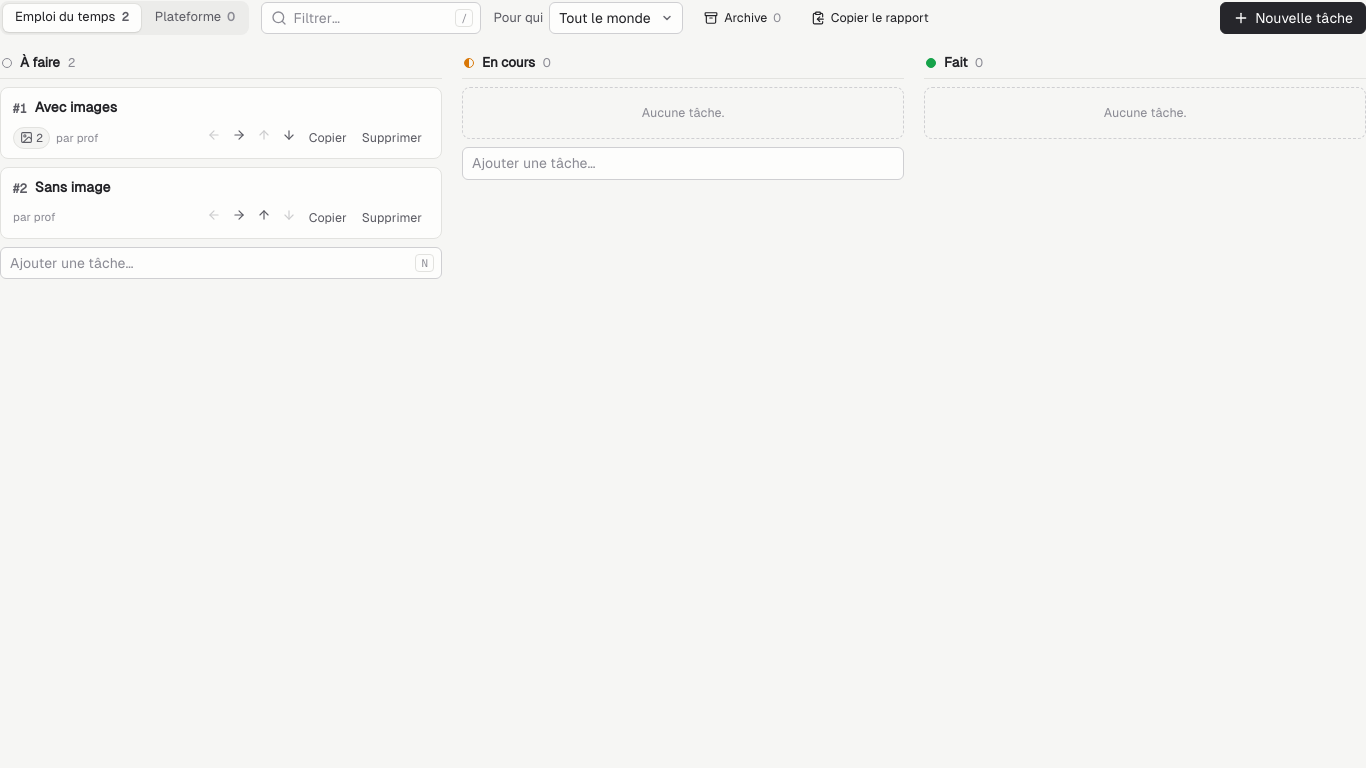
it: KanbanView — images des tâches › shows an image counter on the card that opens the preview
The width and height of the screenshot is (1366, 768).
Expected: the button "Avec images" is shown, [35,98,429,117]
Click the button named "Voir les 2 images de « Avec images »" at coordinates (31, 138), box [13,127,50,149]
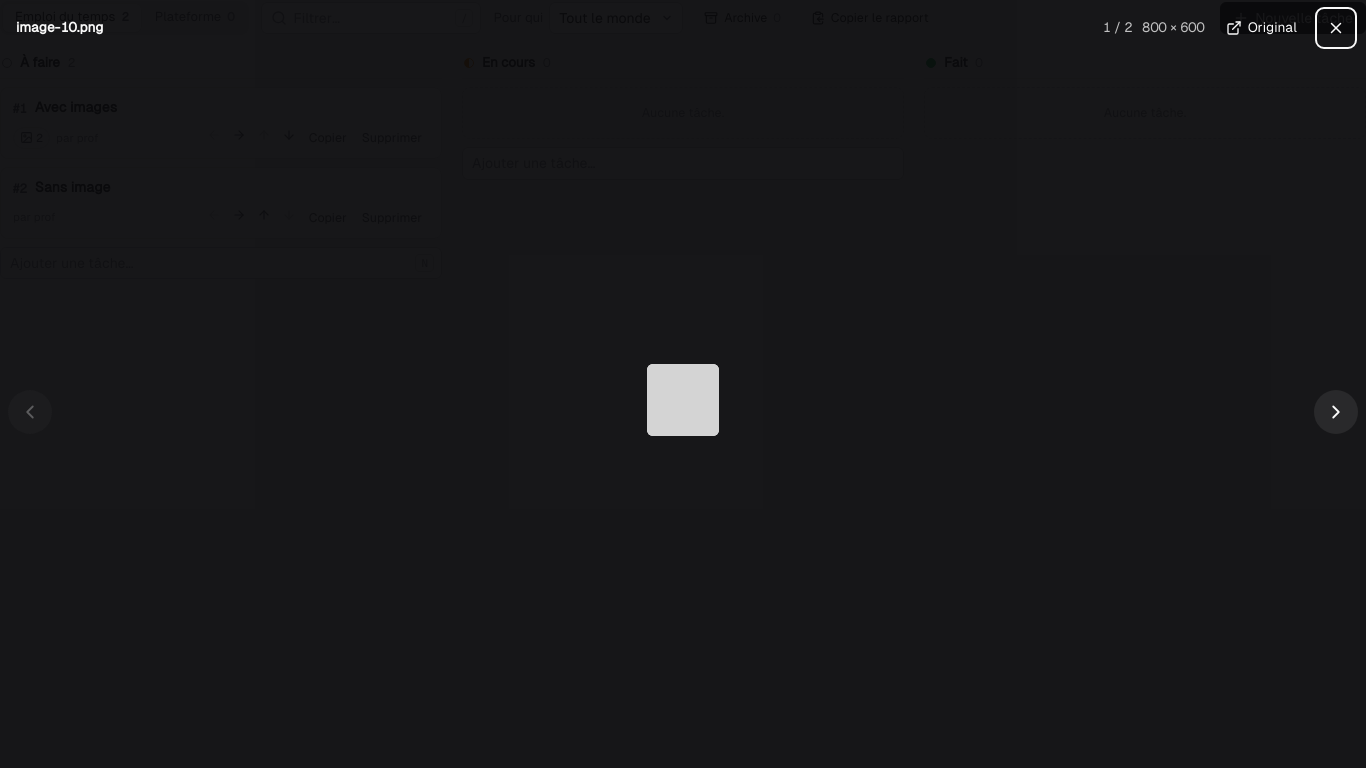
Now the dialog named "Aperçu de « image-10.png », image 1 sur 2" is shown
Click the button named "Image suivante" at coordinates (1336, 412), box [1314,390,1358,434]
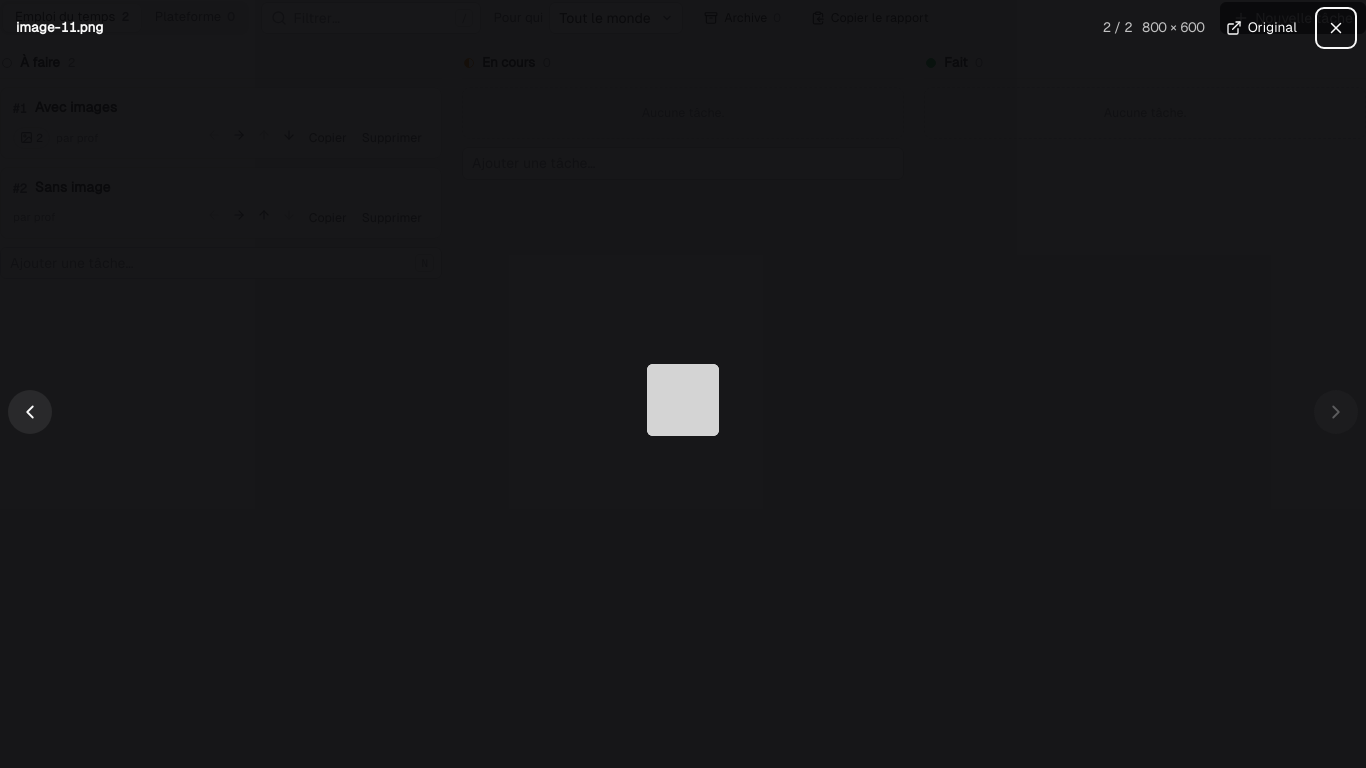
Now the dialog named "Aperçu de « image-11.png », image 2 sur 2" is shown
Click the button named "Fermer l’aperçu" at coordinates (1336, 28), box [1318,10,1354,46]
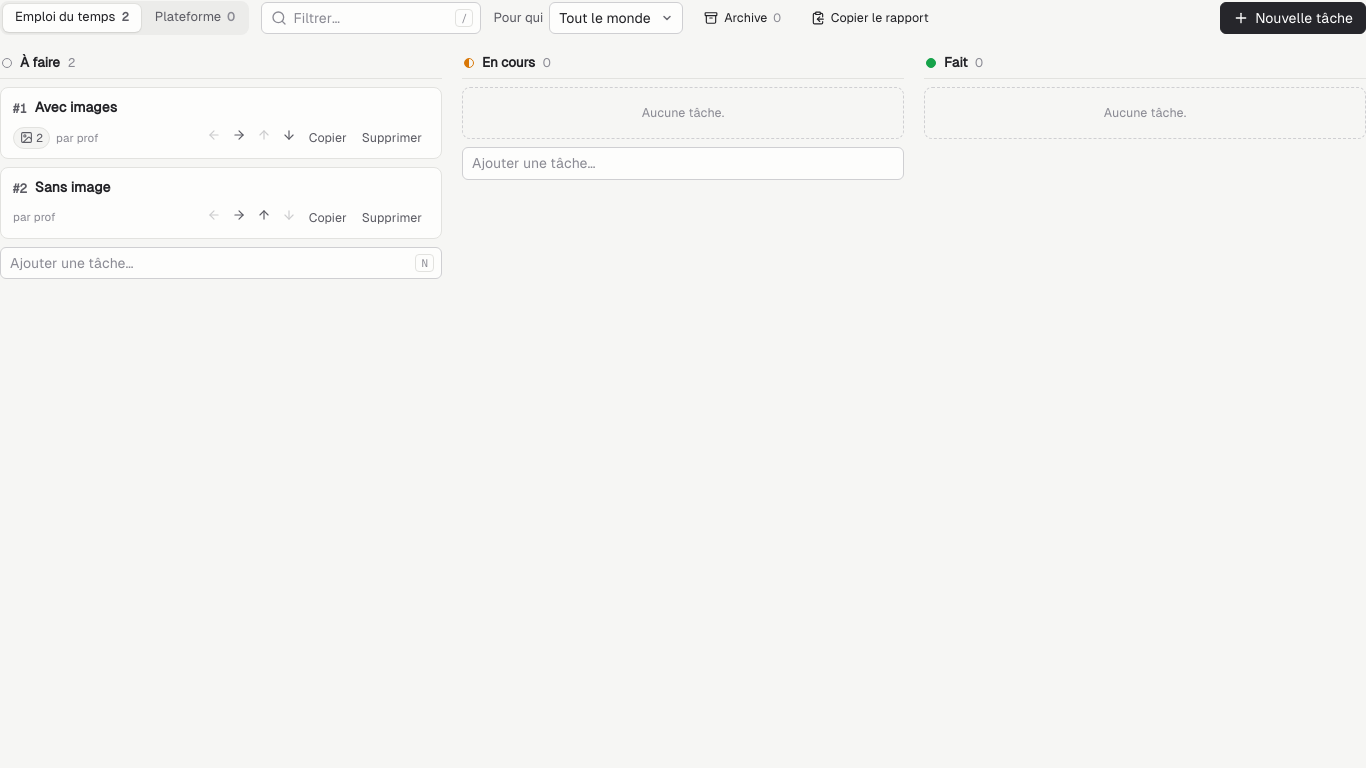
Now the dialog is gone
